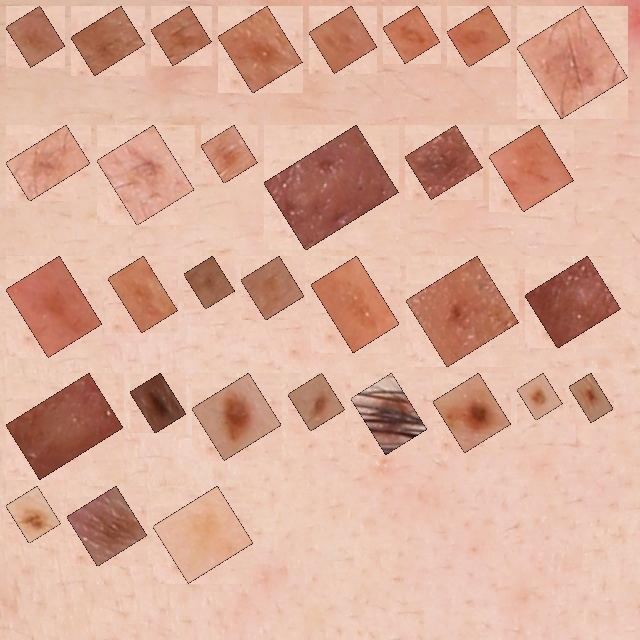hypertrophic_scar: (275, 136, 387, 239), (17, 384, 112, 468), (536, 267, 610, 337)
melasma: (528, 17, 617, 108), (108, 136, 183, 214), (164, 497, 242, 572), (17, 267, 91, 346), (322, 267, 388, 341), (229, 17, 291, 82), (500, 136, 562, 200), (17, 136, 79, 190), (416, 136, 471, 188), (119, 267, 167, 322), (82, 17, 134, 64), (320, 17, 366, 62), (252, 267, 293, 309), (458, 17, 499, 56), (17, 17, 54, 56), (162, 17, 200, 54), (394, 17, 429, 52), (212, 136, 246, 172), (195, 267, 224, 298)
nevus: (417, 267, 508, 356), (203, 384, 270, 449), (444, 384, 500, 441), (362, 384, 416, 443), (141, 384, 175, 422), (299, 384, 334, 420), (17, 497, 50, 532), (580, 384, 602, 411), (528, 384, 551, 409)
